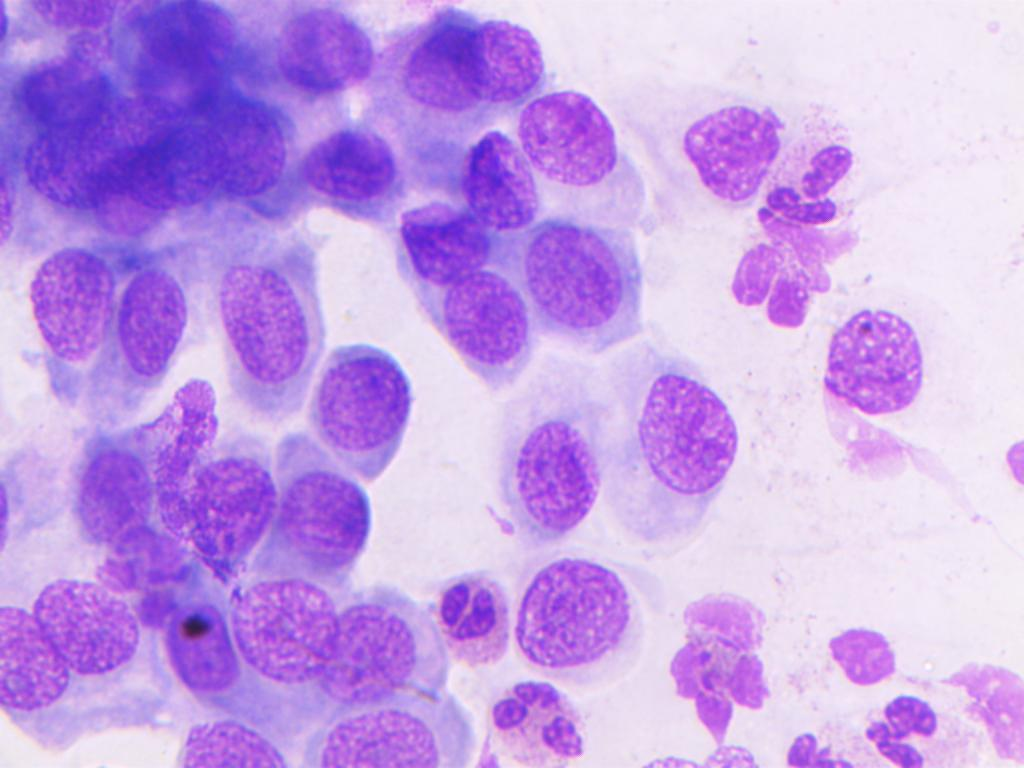artifact: (727, 230, 817, 337), (947, 664, 1024, 767), (823, 627, 899, 688)
epithelial: (599, 358, 756, 543), (487, 369, 612, 546), (815, 304, 940, 468), (213, 229, 315, 425), (307, 333, 426, 480), (511, 555, 658, 668), (519, 212, 638, 348), (272, 439, 376, 583), (112, 249, 208, 397), (175, 442, 272, 588), (315, 594, 432, 714), (226, 576, 332, 694), (675, 94, 790, 202), (33, 239, 116, 386), (147, 591, 246, 708), (27, 572, 138, 676), (448, 114, 541, 234), (307, 694, 456, 768), (514, 89, 622, 187), (383, 196, 494, 290), (297, 117, 396, 214), (73, 440, 158, 550), (155, 706, 302, 768), (449, 16, 552, 102), (277, 10, 372, 96), (446, 269, 526, 366)
metaplastic: (110, 103, 223, 208), (134, 9, 230, 108), (29, 108, 123, 209), (204, 93, 289, 200), (10, 51, 118, 130)
neutrophil: (668, 588, 777, 740), (426, 554, 516, 674), (762, 128, 863, 228), (482, 675, 589, 767), (855, 688, 962, 768)
